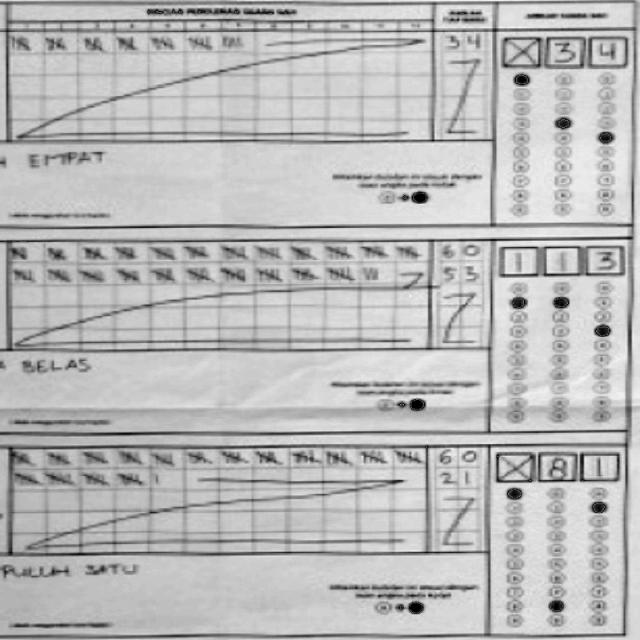Suara: (499, 31, 626, 69), (497, 240, 626, 276), (491, 447, 623, 482)
